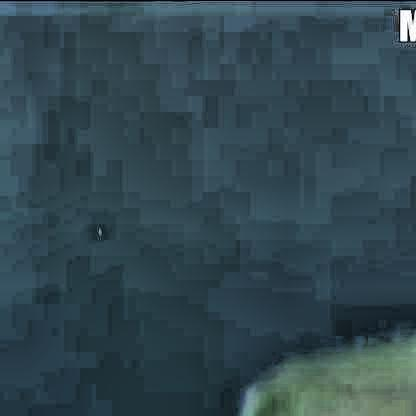golfball: (94, 226, 104, 233)
